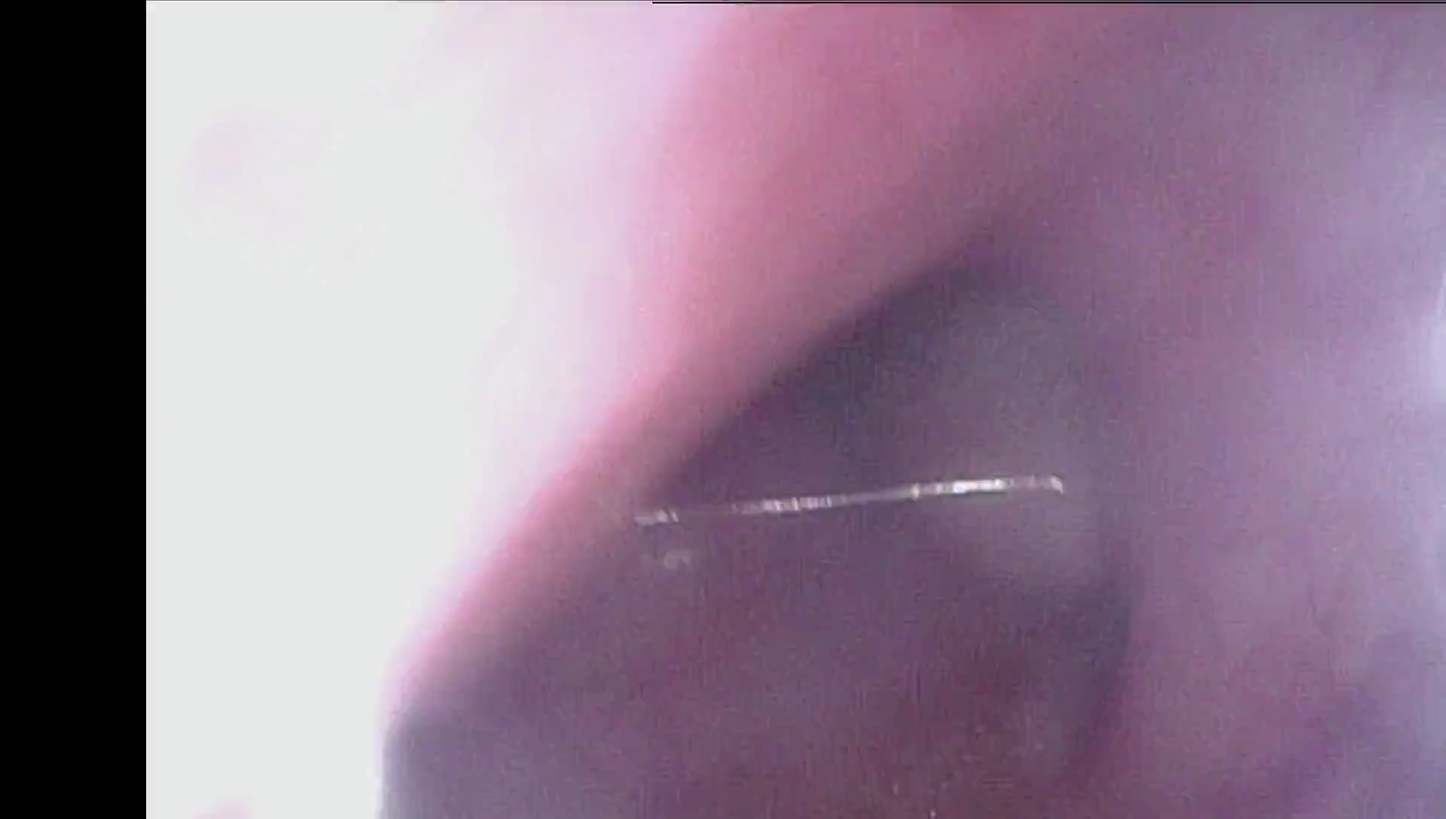close_wall: (161, 0, 761, 711)
next: (775, 276, 922, 513)
